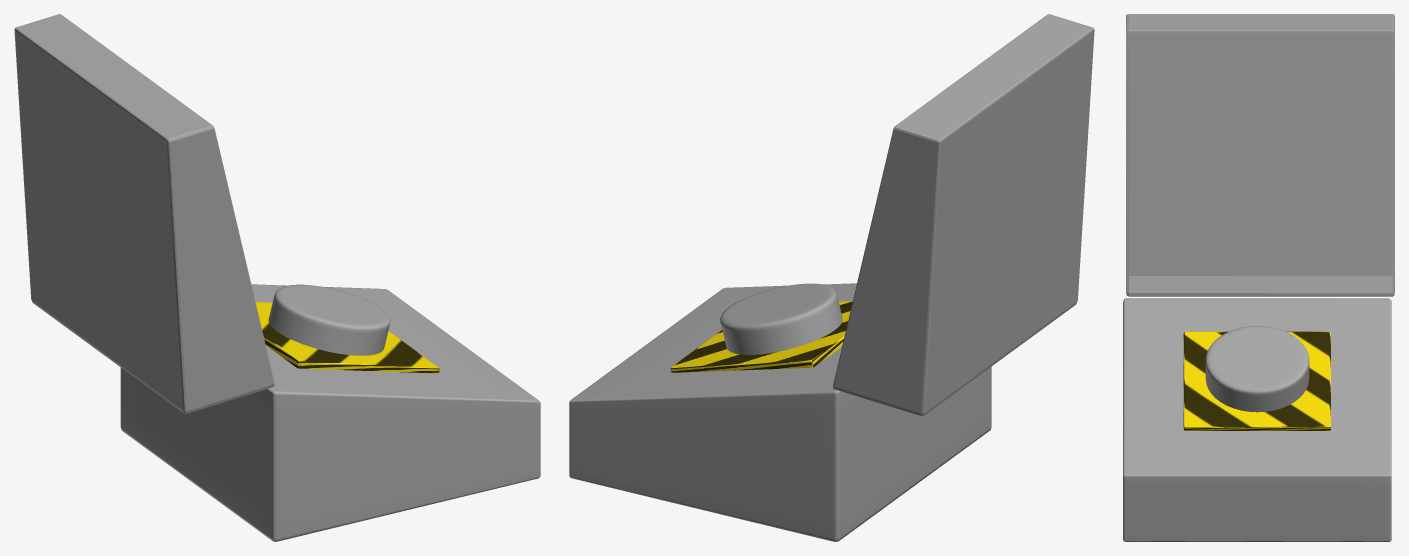
File: button 1.fbx
3 renders of one model, left to right at view 1: azimuth 30°, elevation 25°; view 2: azimuth 150°, elevation 25°; view 3: azimuth 270°, elevation 25°, orthographic. The views are drawn at different scales.
Parts seen in each view (by area): view 1: lid, box, button, under_button; view 2: lid, box, button, under_button; view 3: lid, box, under_button, button.
Boxes of the visible parts, left/top/right/bottom form: lid: left=14, top=14, right=274, bottom=413; box: left=120, top=284, right=540, bottom=541; button: left=268, top=284, right=390, bottom=355; under_button: left=255, top=302, right=439, bottom=373; lid: left=833, top=14, right=1094, bottom=416; box: left=569, top=283, right=991, bottom=541; button: left=720, top=283, right=842, bottom=354; under_button: left=670, top=301, right=852, bottom=372; lid: left=1126, top=14, right=1394, bottom=296; box: left=1123, top=298, right=1391, bottom=541; under_button: left=1183, top=331, right=1330, bottom=430; button: left=1205, top=326, right=1309, bottom=412.
Bounding box in the file's own units: 3.83 × 4.25 × 2.8.
Materials: 2 (1 with a texture image).
